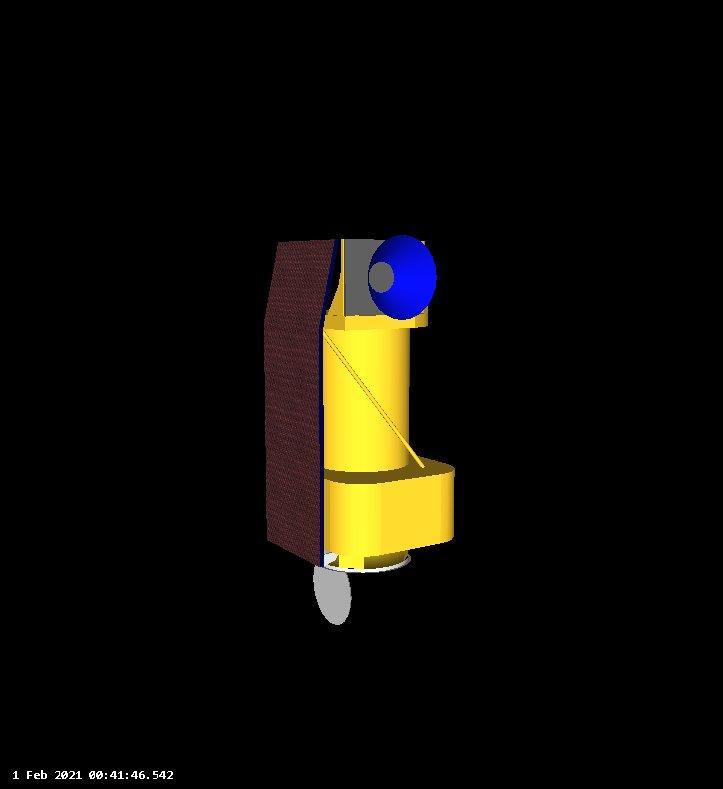antenna: (313, 564, 352, 628)
body: (325, 233, 455, 570)
solar: (262, 233, 344, 569)
thruster: (366, 234, 439, 320)
